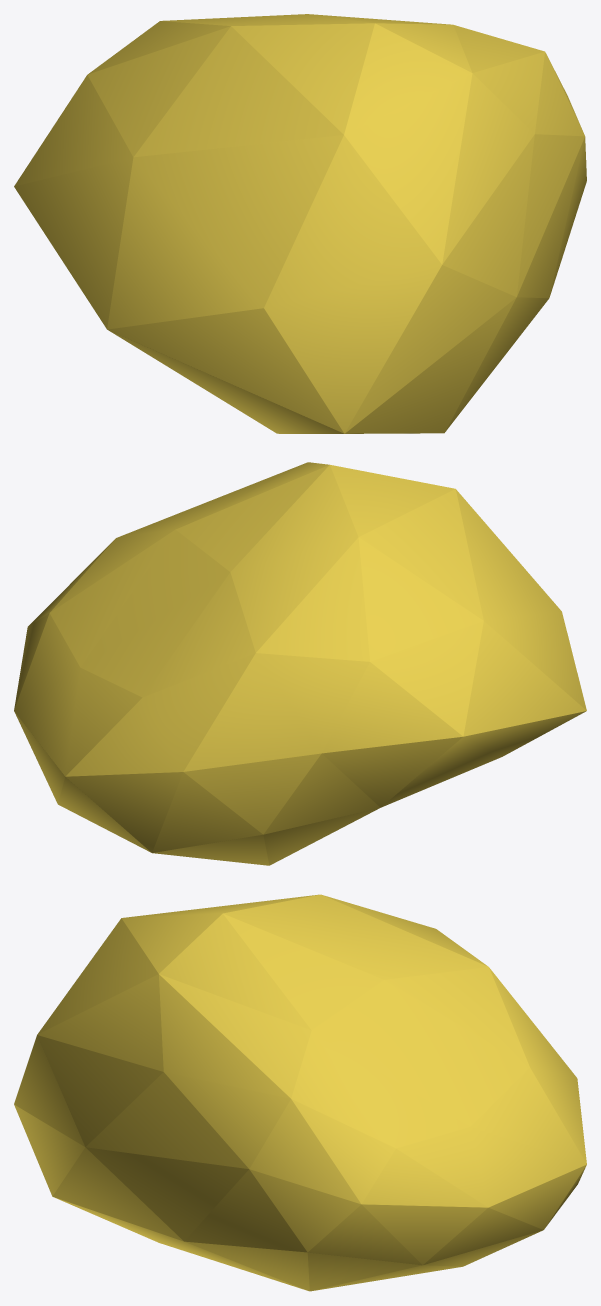
Rendered from Plage_Motte_v1_001.FBX.
3 views of the same model, one above another, from view 1: azimuth 30°, elevation 25°; view 2: azimuth 150°, elevation 25°; view 3: azimuth 270°, elevation 25° (orthographic). The views are drawn at different scales.
Parts seen in each view (by area): view 1: Rocher027; view 2: Rocher027; view 3: Rocher027.
Boxes of the visible parts, x1,y1,x2,y2 form: Rocher027: [14, 14, 586, 433]; Rocher027: [14, 462, 586, 865]; Rocher027: [14, 894, 586, 1291].
Size of the model in its own units: 86.38 by 56.33 by 87.45.
